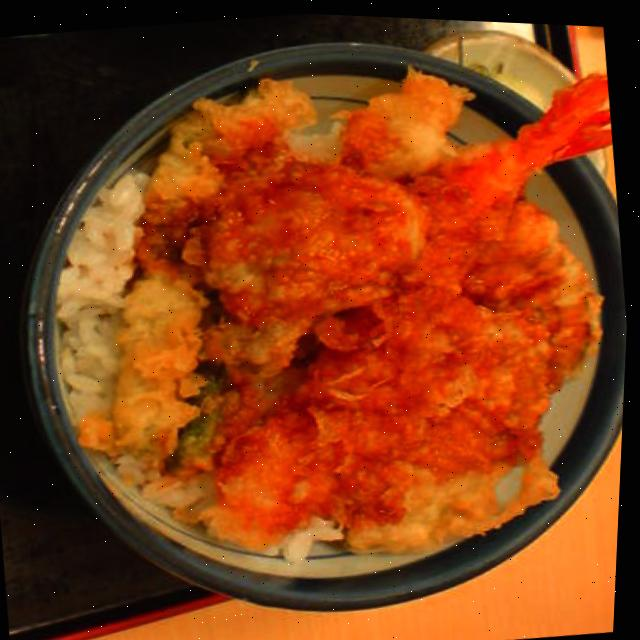熟制海鲜: (8, 1, 640, 640)
